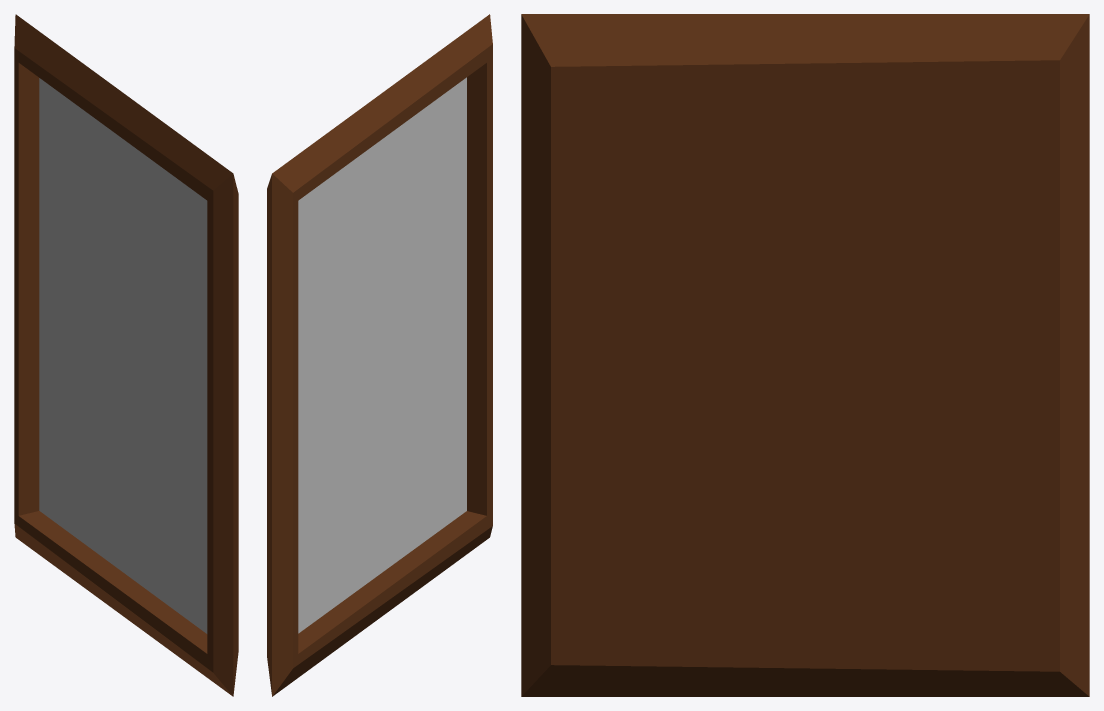
File: painting.fbx
3 views of the same model, side by side, from view 1: azimuth 30°, elevation 25°; view 2: azimuth 150°, elevation 25°; view 3: azimuth 270°, elevation 25° (orthographic). The views are drawn at different scales.
Parts seen in each view (by area): view 1: painting; view 2: painting; view 3: painting.
Boxes of the visible parts, x1,y1,x2,y2 form: painting: (14, 14, 238, 696); painting: (267, 14, 492, 696); painting: (521, 14, 1089, 696).
Size of the model in its own units: 5.02 by 89.54 by 67.56.
